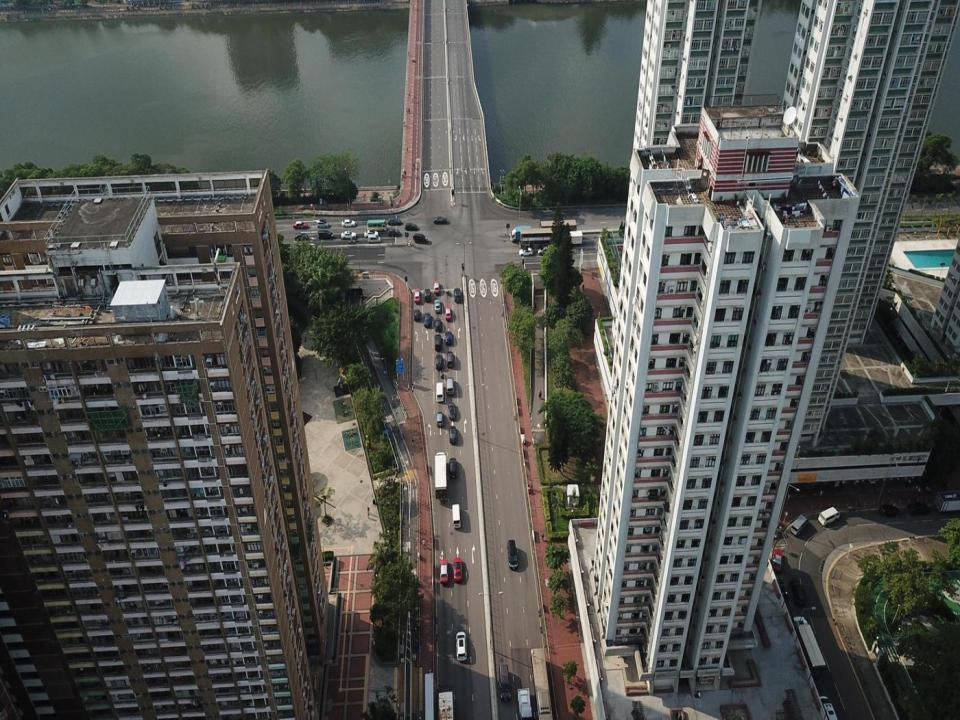bus: (530, 647, 554, 719), (518, 228, 559, 250), (539, 218, 578, 237), (366, 218, 388, 233)
car: (455, 630, 467, 662), (507, 538, 518, 570), (452, 556, 463, 583), (439, 558, 449, 585), (317, 228, 334, 241), (412, 231, 428, 244), (448, 457, 457, 479), (518, 246, 534, 257), (537, 245, 553, 256), (448, 425, 457, 444), (447, 401, 456, 420), (340, 231, 357, 240), (436, 410, 444, 429), (434, 333, 442, 351), (294, 231, 308, 241), (367, 234, 381, 244), (404, 221, 418, 231), (435, 353, 443, 370), (446, 351, 454, 368), (363, 230, 380, 238), (293, 220, 308, 229), (341, 219, 356, 228), (387, 217, 402, 226), (444, 330, 452, 346), (423, 312, 431, 328), (444, 305, 452, 321), (413, 288, 421, 304), (432, 216, 448, 224), (434, 317, 442, 332), (434, 298, 442, 313), (454, 287, 462, 302), (316, 219, 329, 228), (424, 288, 432, 302), (388, 229, 400, 238), (433, 280, 440, 295), (413, 308, 420, 322)
truck: (432, 450, 449, 500), (436, 684, 455, 719), (516, 687, 534, 719), (509, 225, 531, 243), (565, 229, 583, 247)
van: (498, 663, 511, 701), (452, 503, 461, 529), (445, 376, 455, 395), (435, 381, 444, 402)
